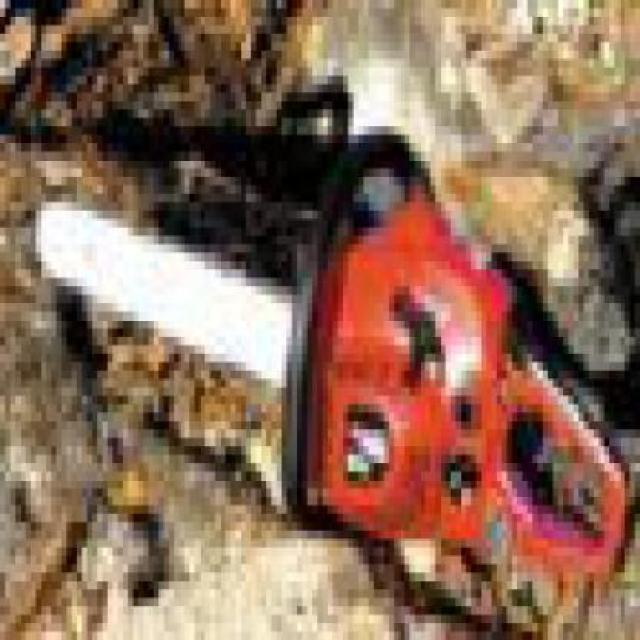Chainsaw: (37, 127, 640, 596)
